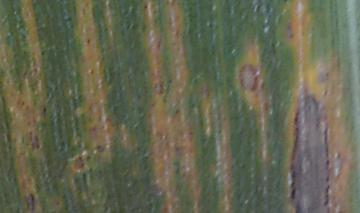tarspot: (28, 192, 35, 213), (86, 37, 91, 45), (42, 105, 46, 114)
